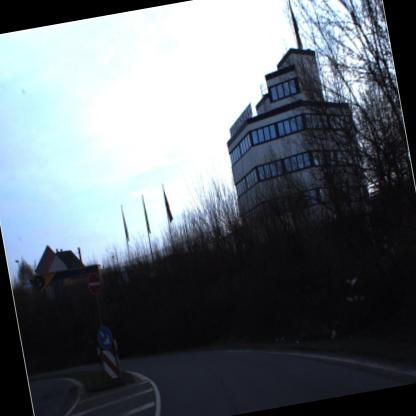mandatory: (91, 319, 116, 353)
other: (82, 269, 106, 299)
